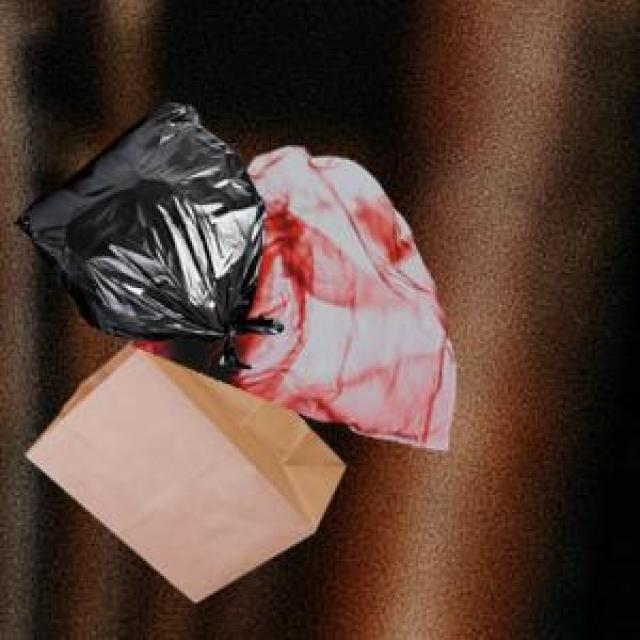miscellaneous trash: (11, 98, 280, 365)
paper: (21, 339, 341, 597)
